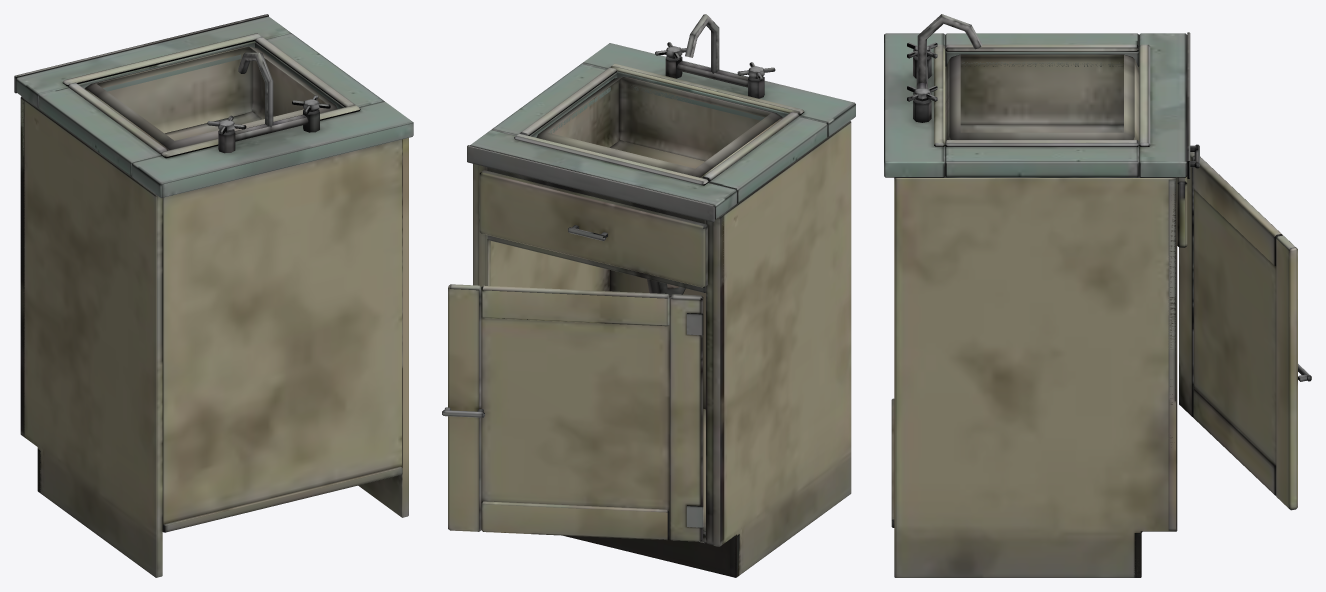
Rendered from furniture_counter_sink.glb.
3 renders of one model, left to right at view 1: azimuth 30°, elevation 25°; view 2: azimuth 150°, elevation 25°; view 3: azimuth 270°, elevation 25°, orthographic. The views are drawn at different scales.
Visible parts, largest first — view 1: furniture_counter_sink; view 2: furniture_counter_sink; view 3: furniture_counter_sink.
Boxes of the visible parts, left/top/right/bottom form: furniture_counter_sink: left=14, top=14, right=413, bottom=577; furniture_counter_sink: left=442, top=14, right=855, bottom=577; furniture_counter_sink: left=884, top=14, right=1311, bottom=577.
Size of the model in its own units: 0.6 by 1.08 by 0.8385.
Materials: 1 (1 with a texture image).
